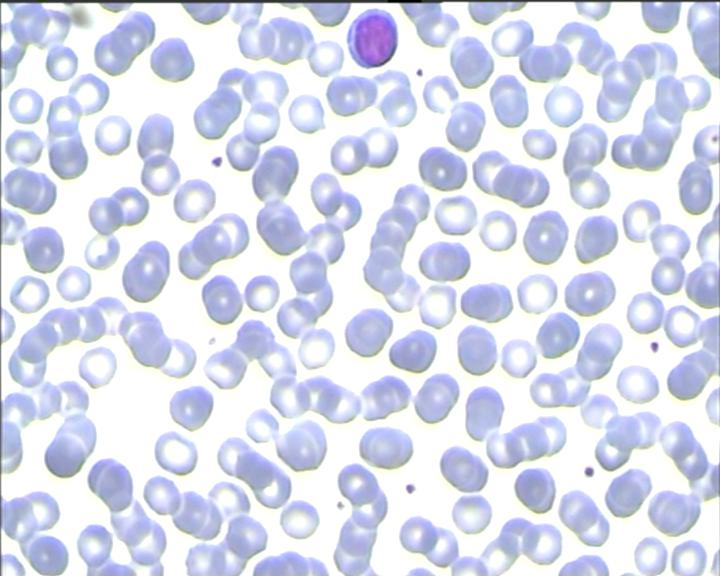lymp: (347, 5, 400, 70)
